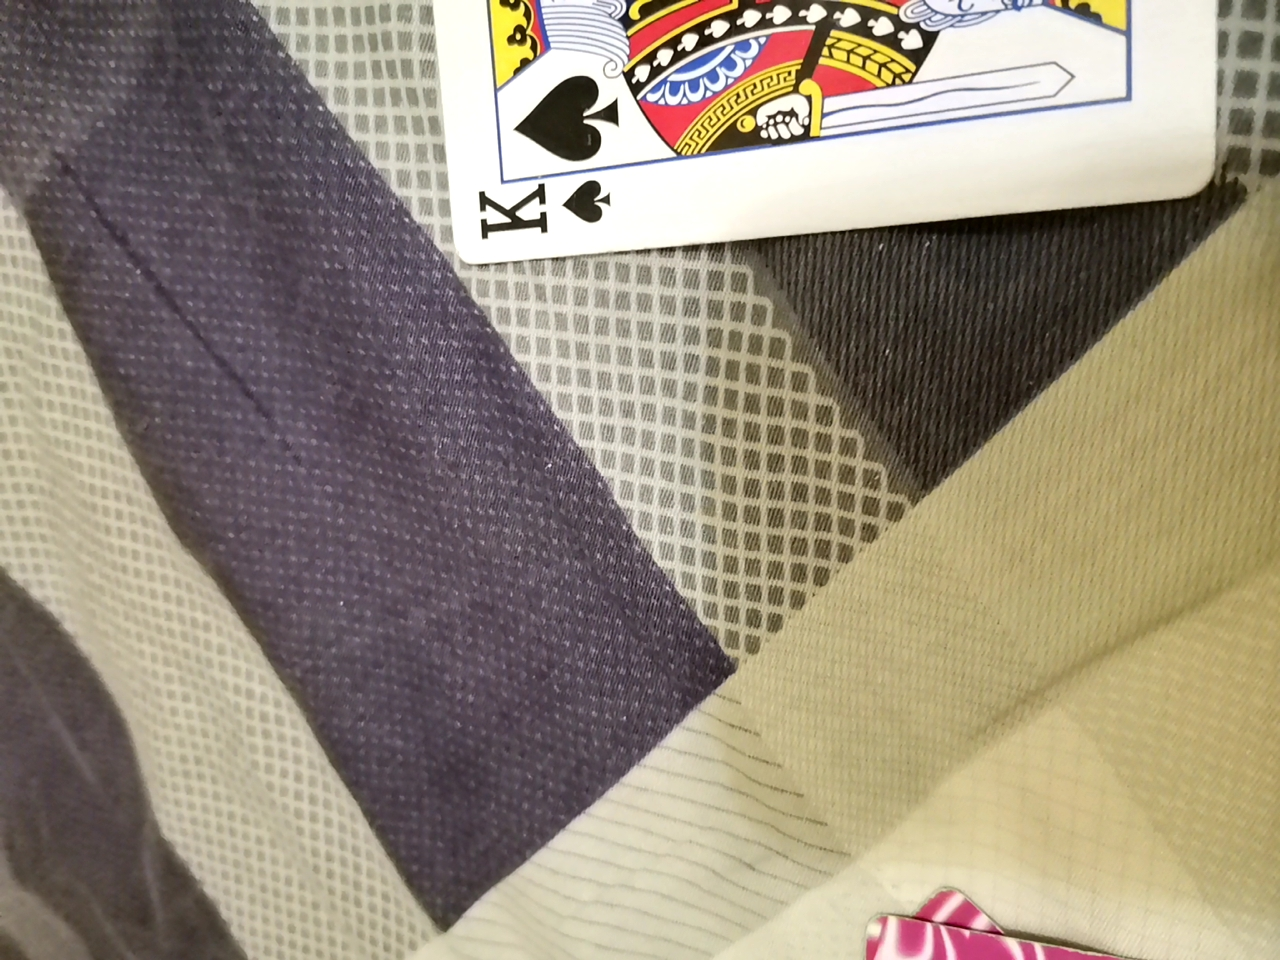ht k: (395, 0, 1189, 269)
